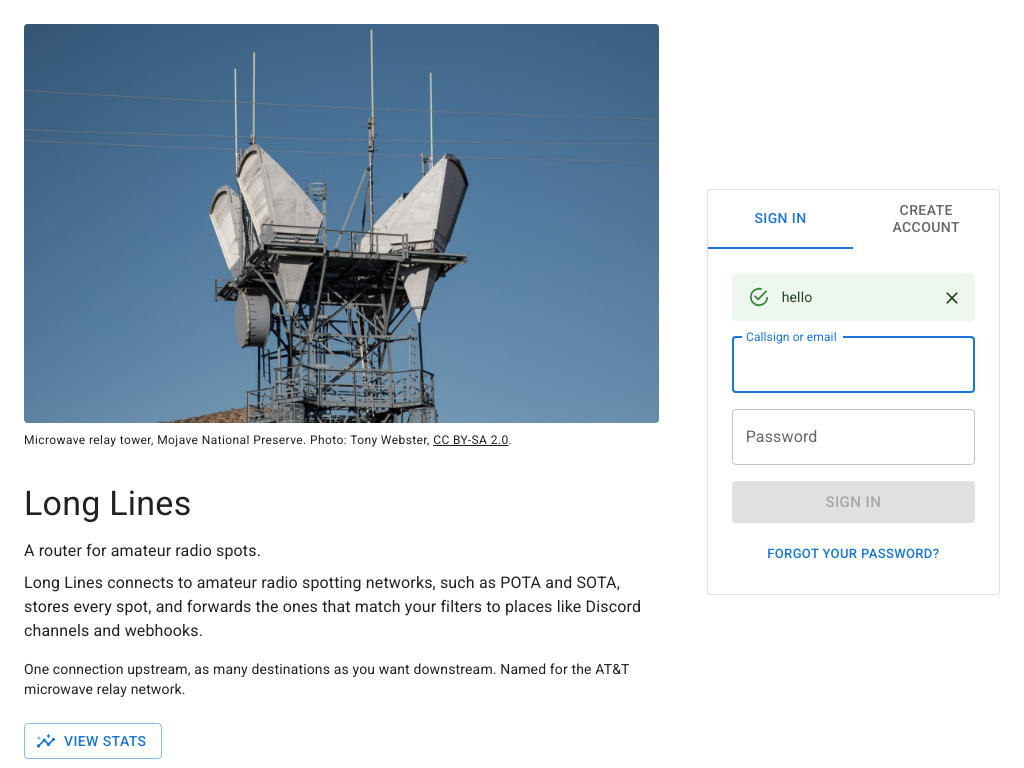
SignInPage: create account › shows sign-up errors
Click the tab "Create account". click: (926, 219)
box: [853,190,999,249]
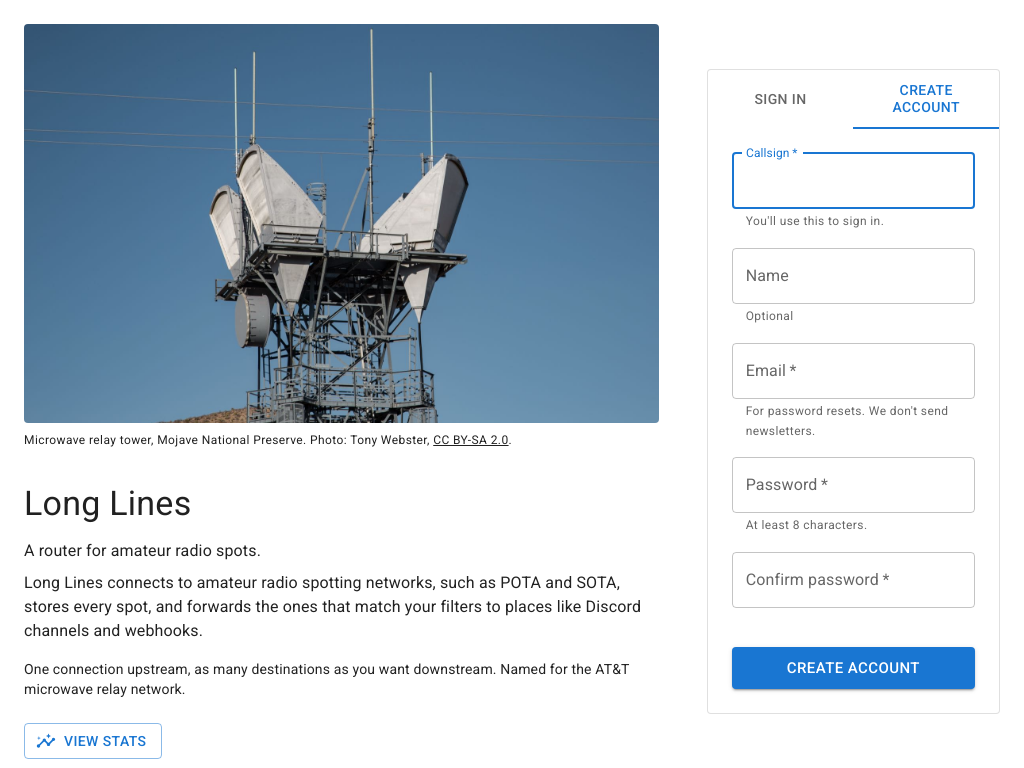
expect the text "hello" is gone: met
Type "kk4pwj" into the field labelled "Callsign *". click: (853, 181)
box: [732,153,975,209]
Type " Brad " into the field labelled "Name". click: (853, 276)
box: [732,248,975,304]
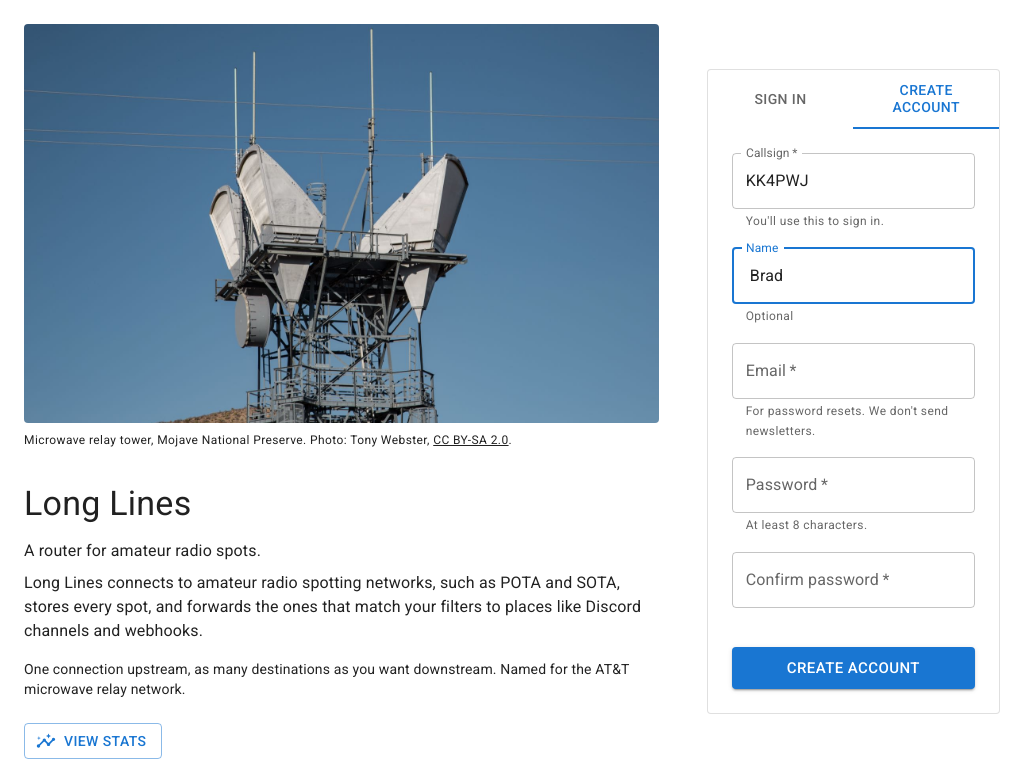
Type "brad@example.com" into the field labelled "Email *". click: (853, 371)
box: [732,343,975,399]
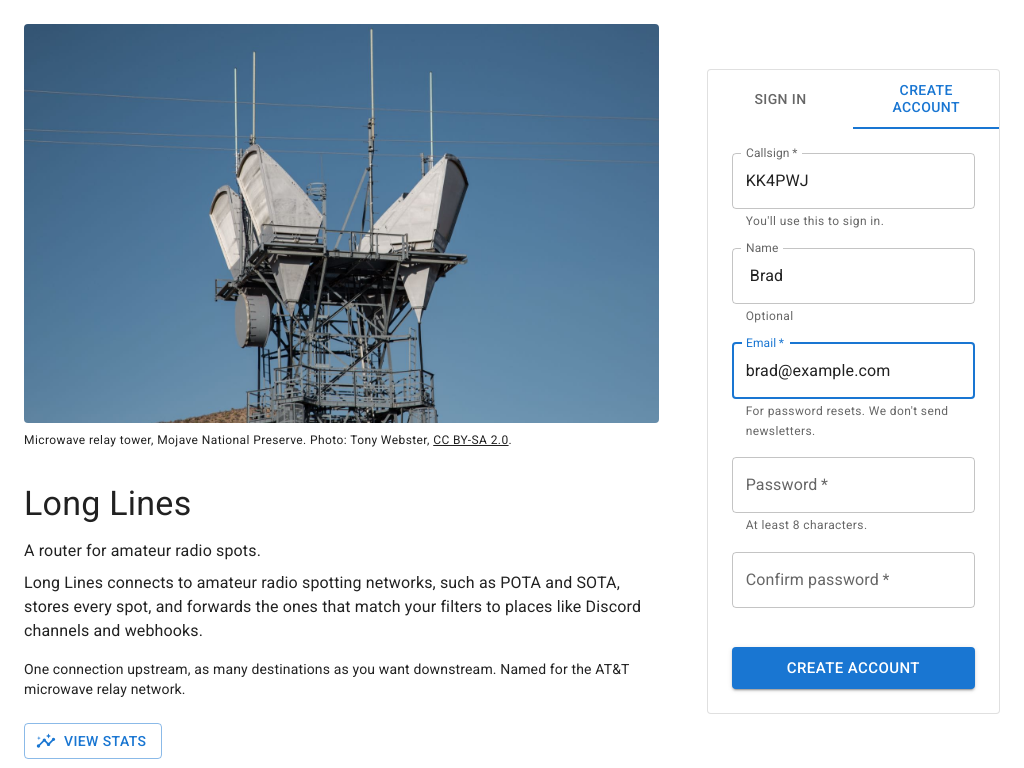
Type "hunter22" into the password field labelled "Password *". click: (853, 485)
box: [732,457,975,513]
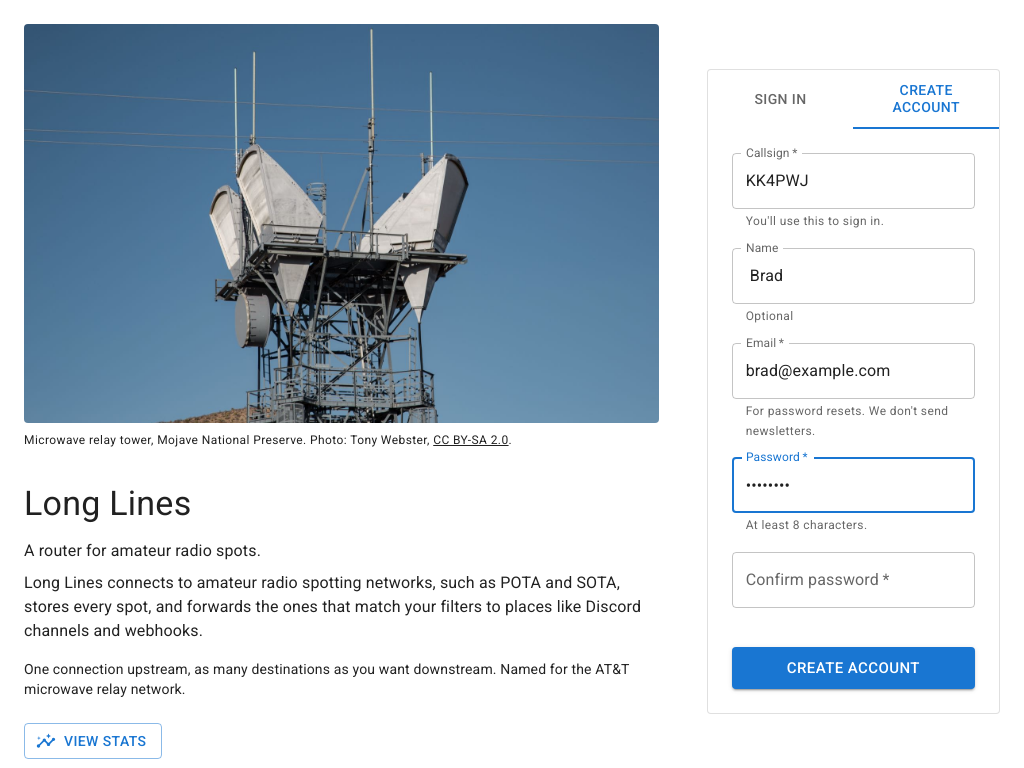
Type "hunter22" into the password field labelled "Confirm password *". click: (853, 580)
box: [732,552,975,608]
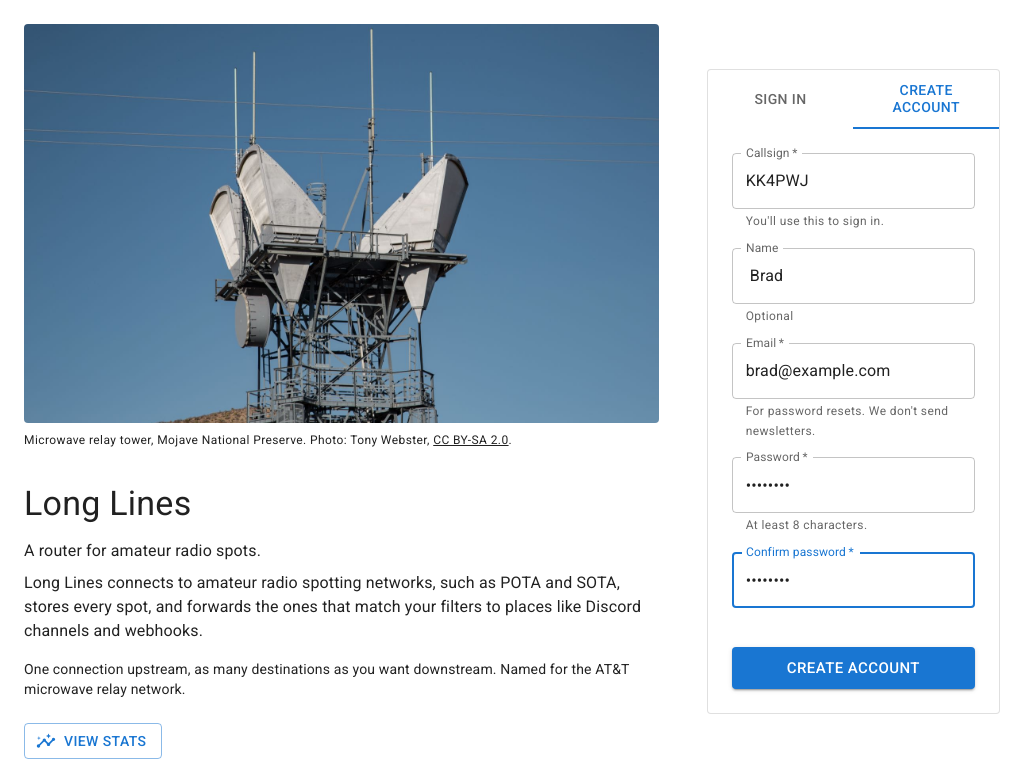
Click the button "Create account". click: (853, 668)
box: [732,647,975,690]
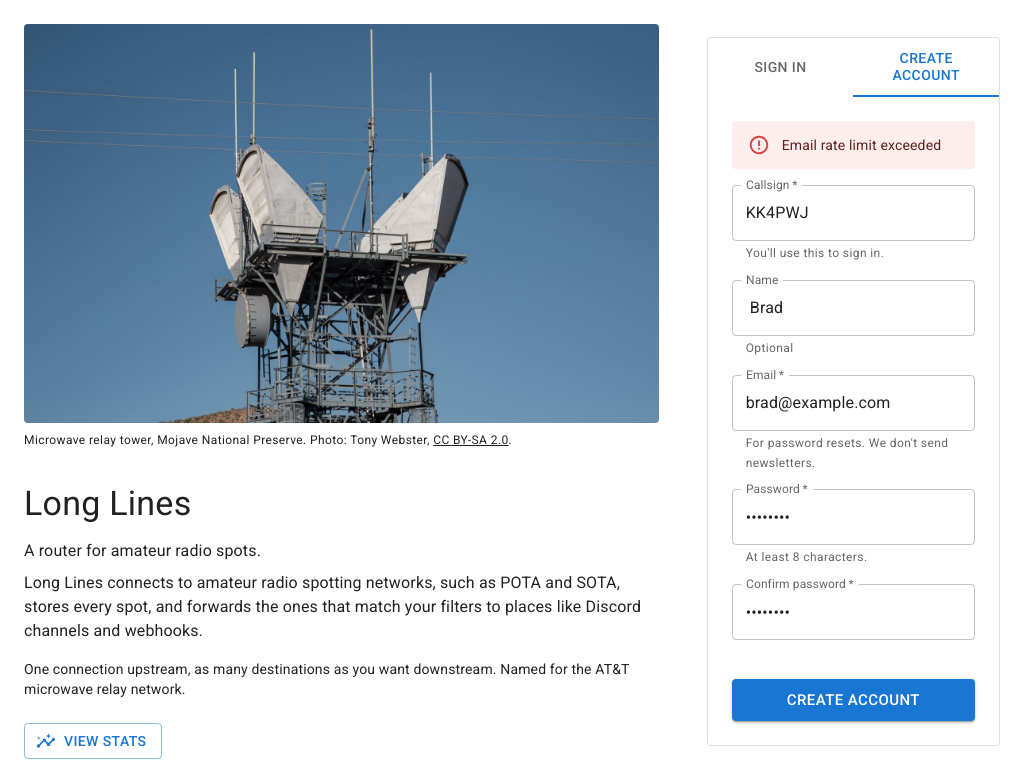
expect the text "Email rate limit exceeded" is shown: met, box [782,137,941,153]
